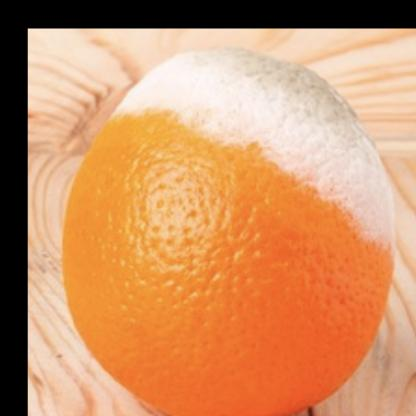rotten: (61, 50, 394, 416)
